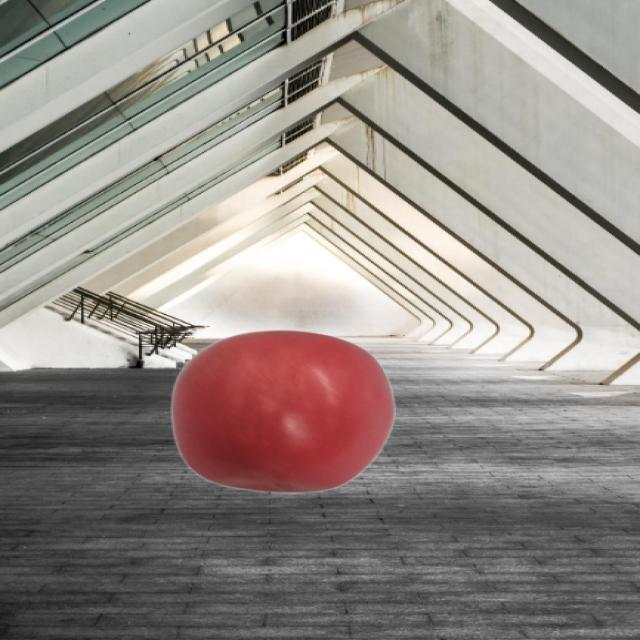apple: (172, 328, 398, 494)
